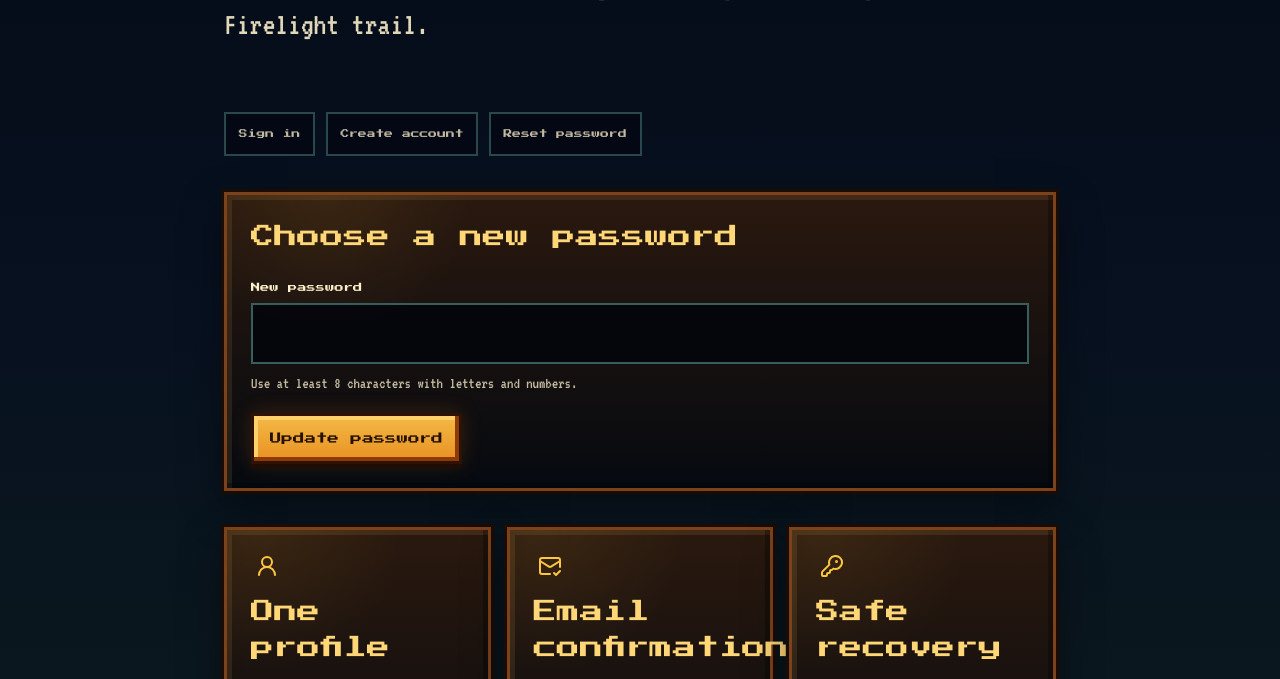
Test: identity pages › removes one-time recovery parameters after a successful password update
The image size is (1280, 679).
(page scrolled)
Type "new-robotics-8" into the password field labelled "New password".
click(640, 334); type("new-robotics-8")  # box [251,303,1029,364]
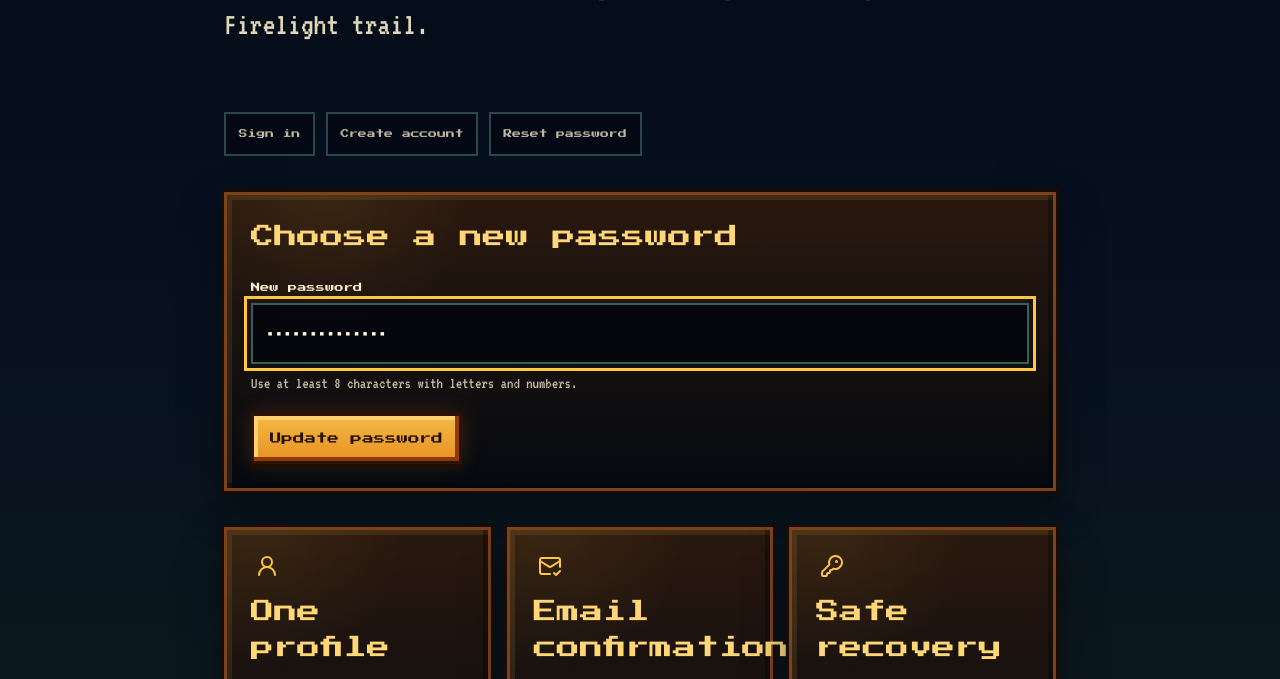
Click the button "Update password".
click(356, 438)  # box [251,413,462,464]
(page scrolled)
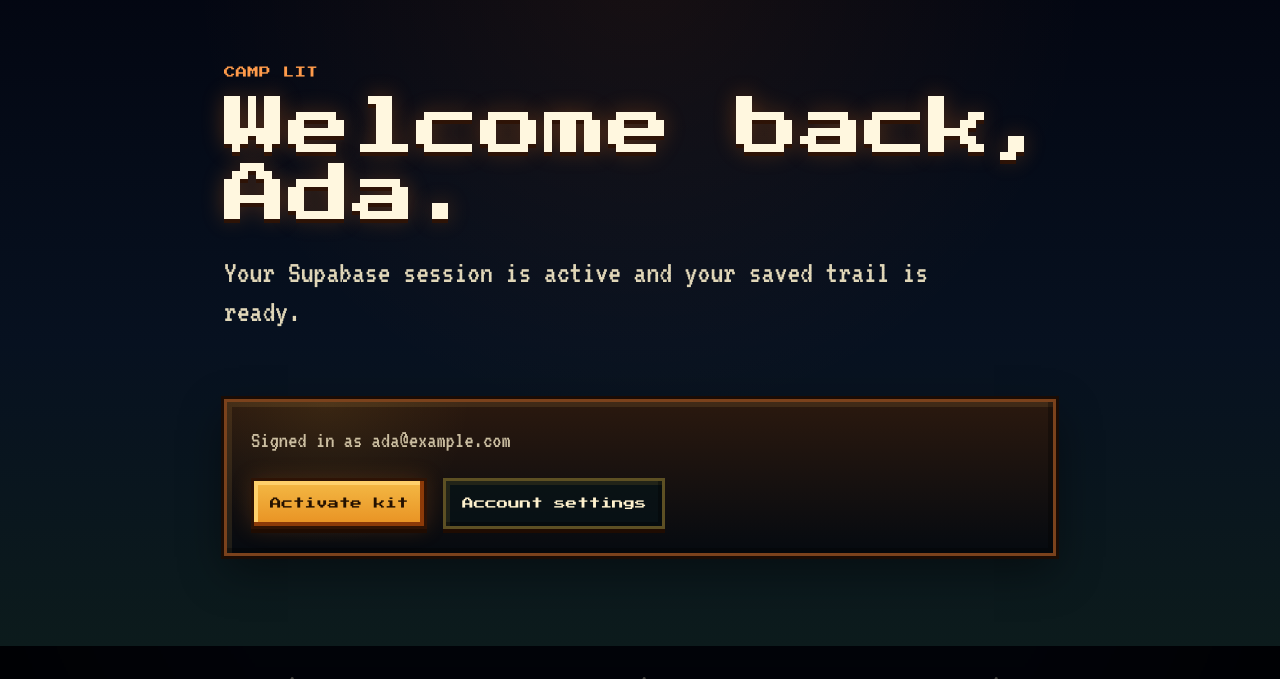
expect the heading "Welcome back, Ada." is shown: met, box [224,95,1056,229]
